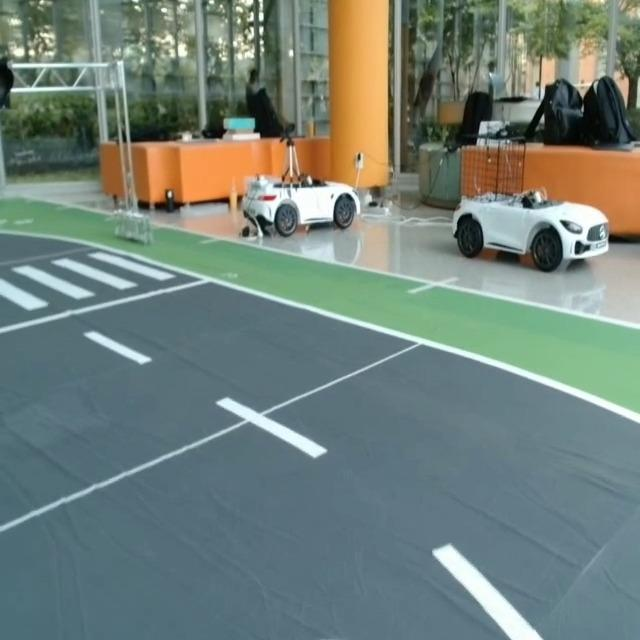traffic-light: (0, 44, 29, 108)
